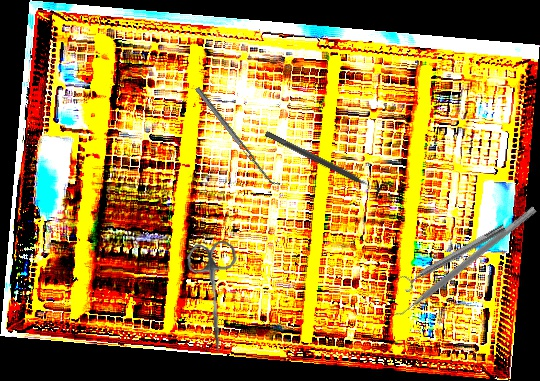Fixation Ring: (261, 123, 390, 202), (397, 219, 510, 294)
Iris Scissors: (185, 240, 245, 356)
Spatula Surgical: (390, 200, 538, 323), (194, 83, 282, 190)
